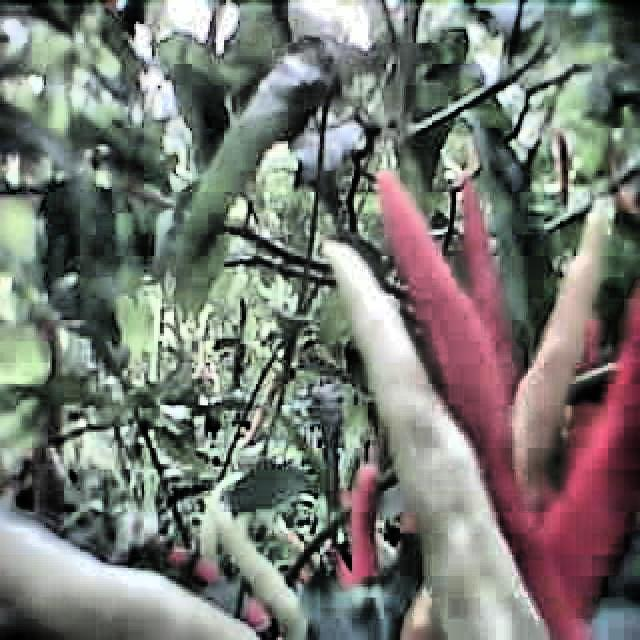Cabai: (381, 196, 515, 332), (333, 463, 402, 585)
